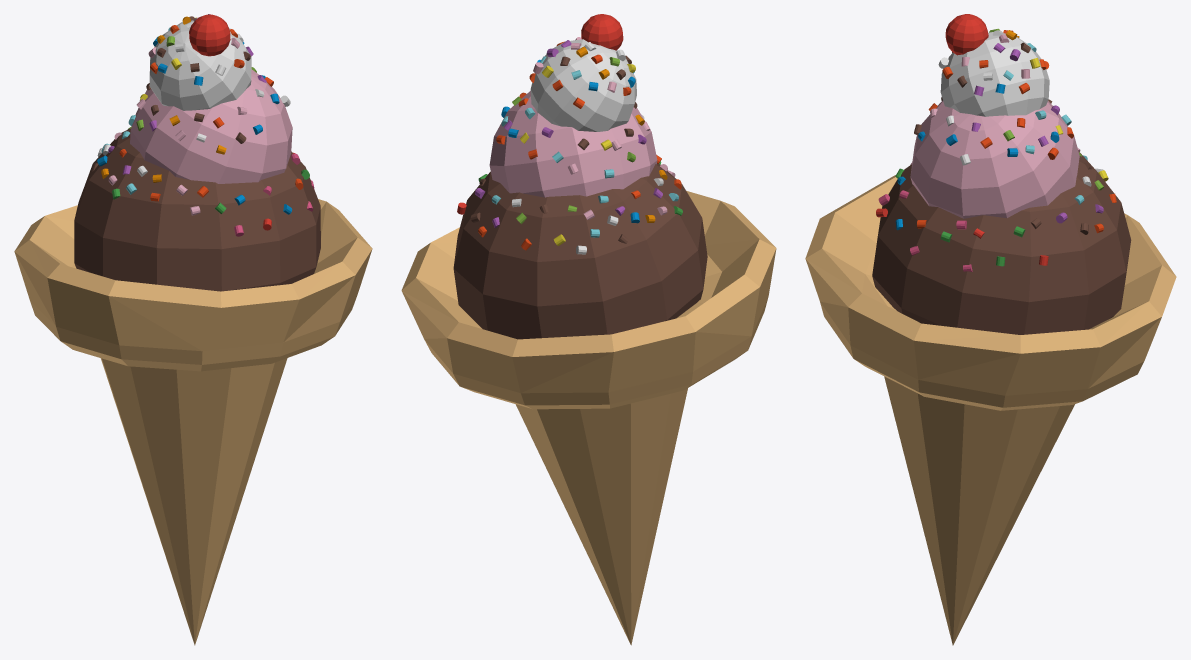
The model's file is ice_cream.gltf.
3 renders of one model, left to right at view 1: azimuth 30°, elevation 25°; view 2: azimuth 150°, elevation 25°; view 3: azimuth 270°, elevation 25°, orthographic. The views are drawn at different scales.
Visible parts, largest first — view 1: node_MeshObject-1845955264-PolyPaper18, node_MeshObject1785085184-PolyPaper20; view 2: node_MeshObject-1845955264-PolyPaper18, node_MeshObject1785085184-PolyPaper20; view 3: node_MeshObject-1845955264-PolyPaper18, node_MeshObject1785085184-PolyPaper20.
Part boxes in pixels (left/top/right/bottom): node_MeshObject-1845955264-PolyPaper18: left=14, top=14, right=372, bottom=371; node_MeshObject1785085184-PolyPaper20: left=101, top=48, right=287, bottom=645; node_MeshObject-1845955264-PolyPaper18: left=401, top=14, right=776, bottom=409; node_MeshObject1785085184-PolyPaper20: left=516, top=55, right=687, bottom=645; node_MeshObject-1845955264-PolyPaper18: left=805, top=14, right=1176, bottom=410; node_MeshObject1785085184-PolyPaper20: left=884, top=52, right=1080, bottom=645.
Size of the model in its own units: 0.853 by 1.61 by 0.8435.
